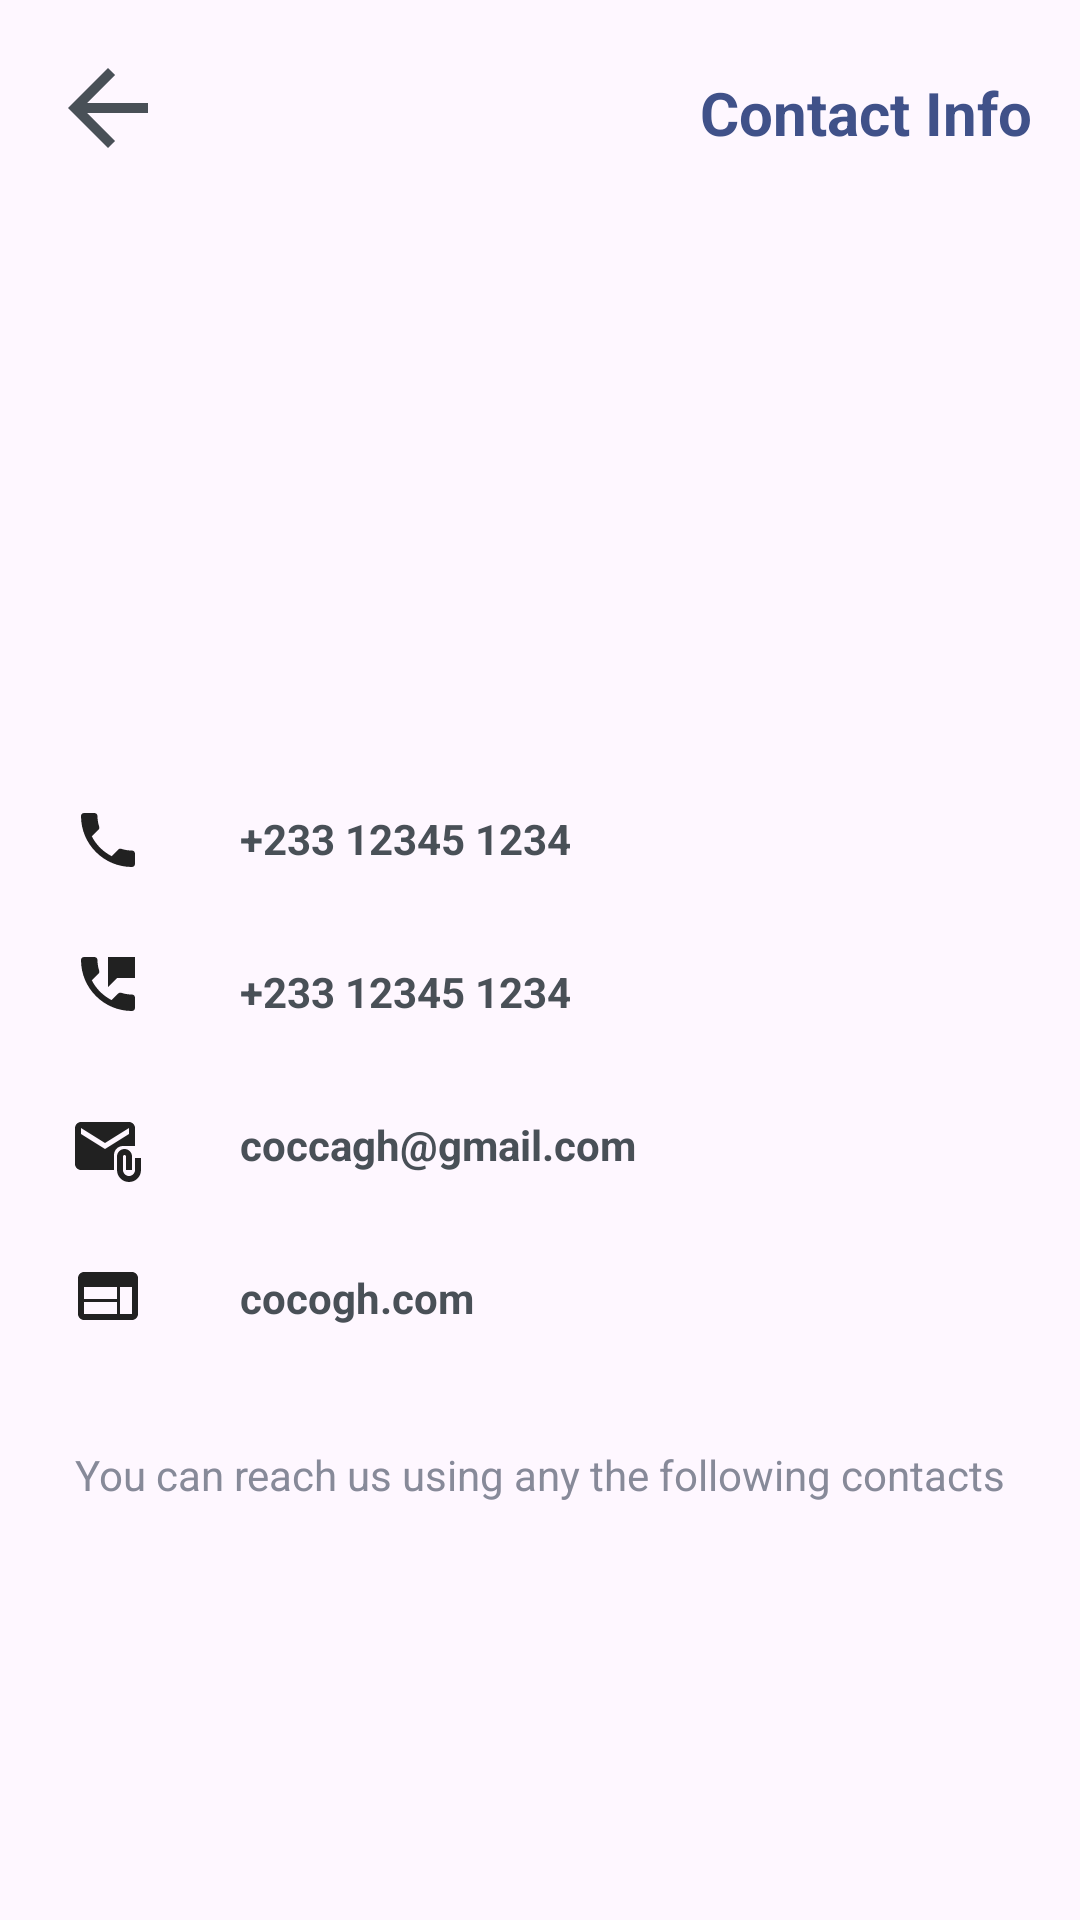

Locate icon controls on the screen. Image size 1080px x 1920px, boxes as BBox(x1, y1, x2, y2).
arrow back: BBox(68, 68, 148, 148)
email: BBox(75, 1122, 141, 1182)
phone: BBox(81, 813, 135, 867)
phone msg: BBox(81, 957, 135, 1011)
web: BBox(78, 1272, 138, 1320)
